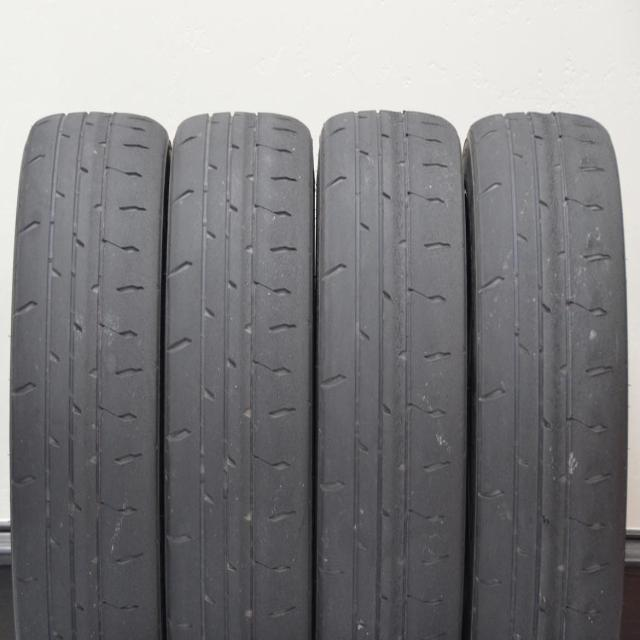Flat spots: (32, 124, 606, 639)
